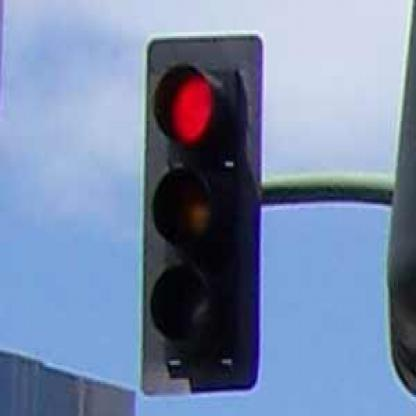red_light: (142, 34, 264, 396)
